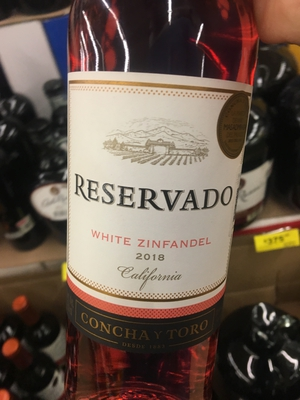reservado white zinfandel: (60, 1, 255, 400)
